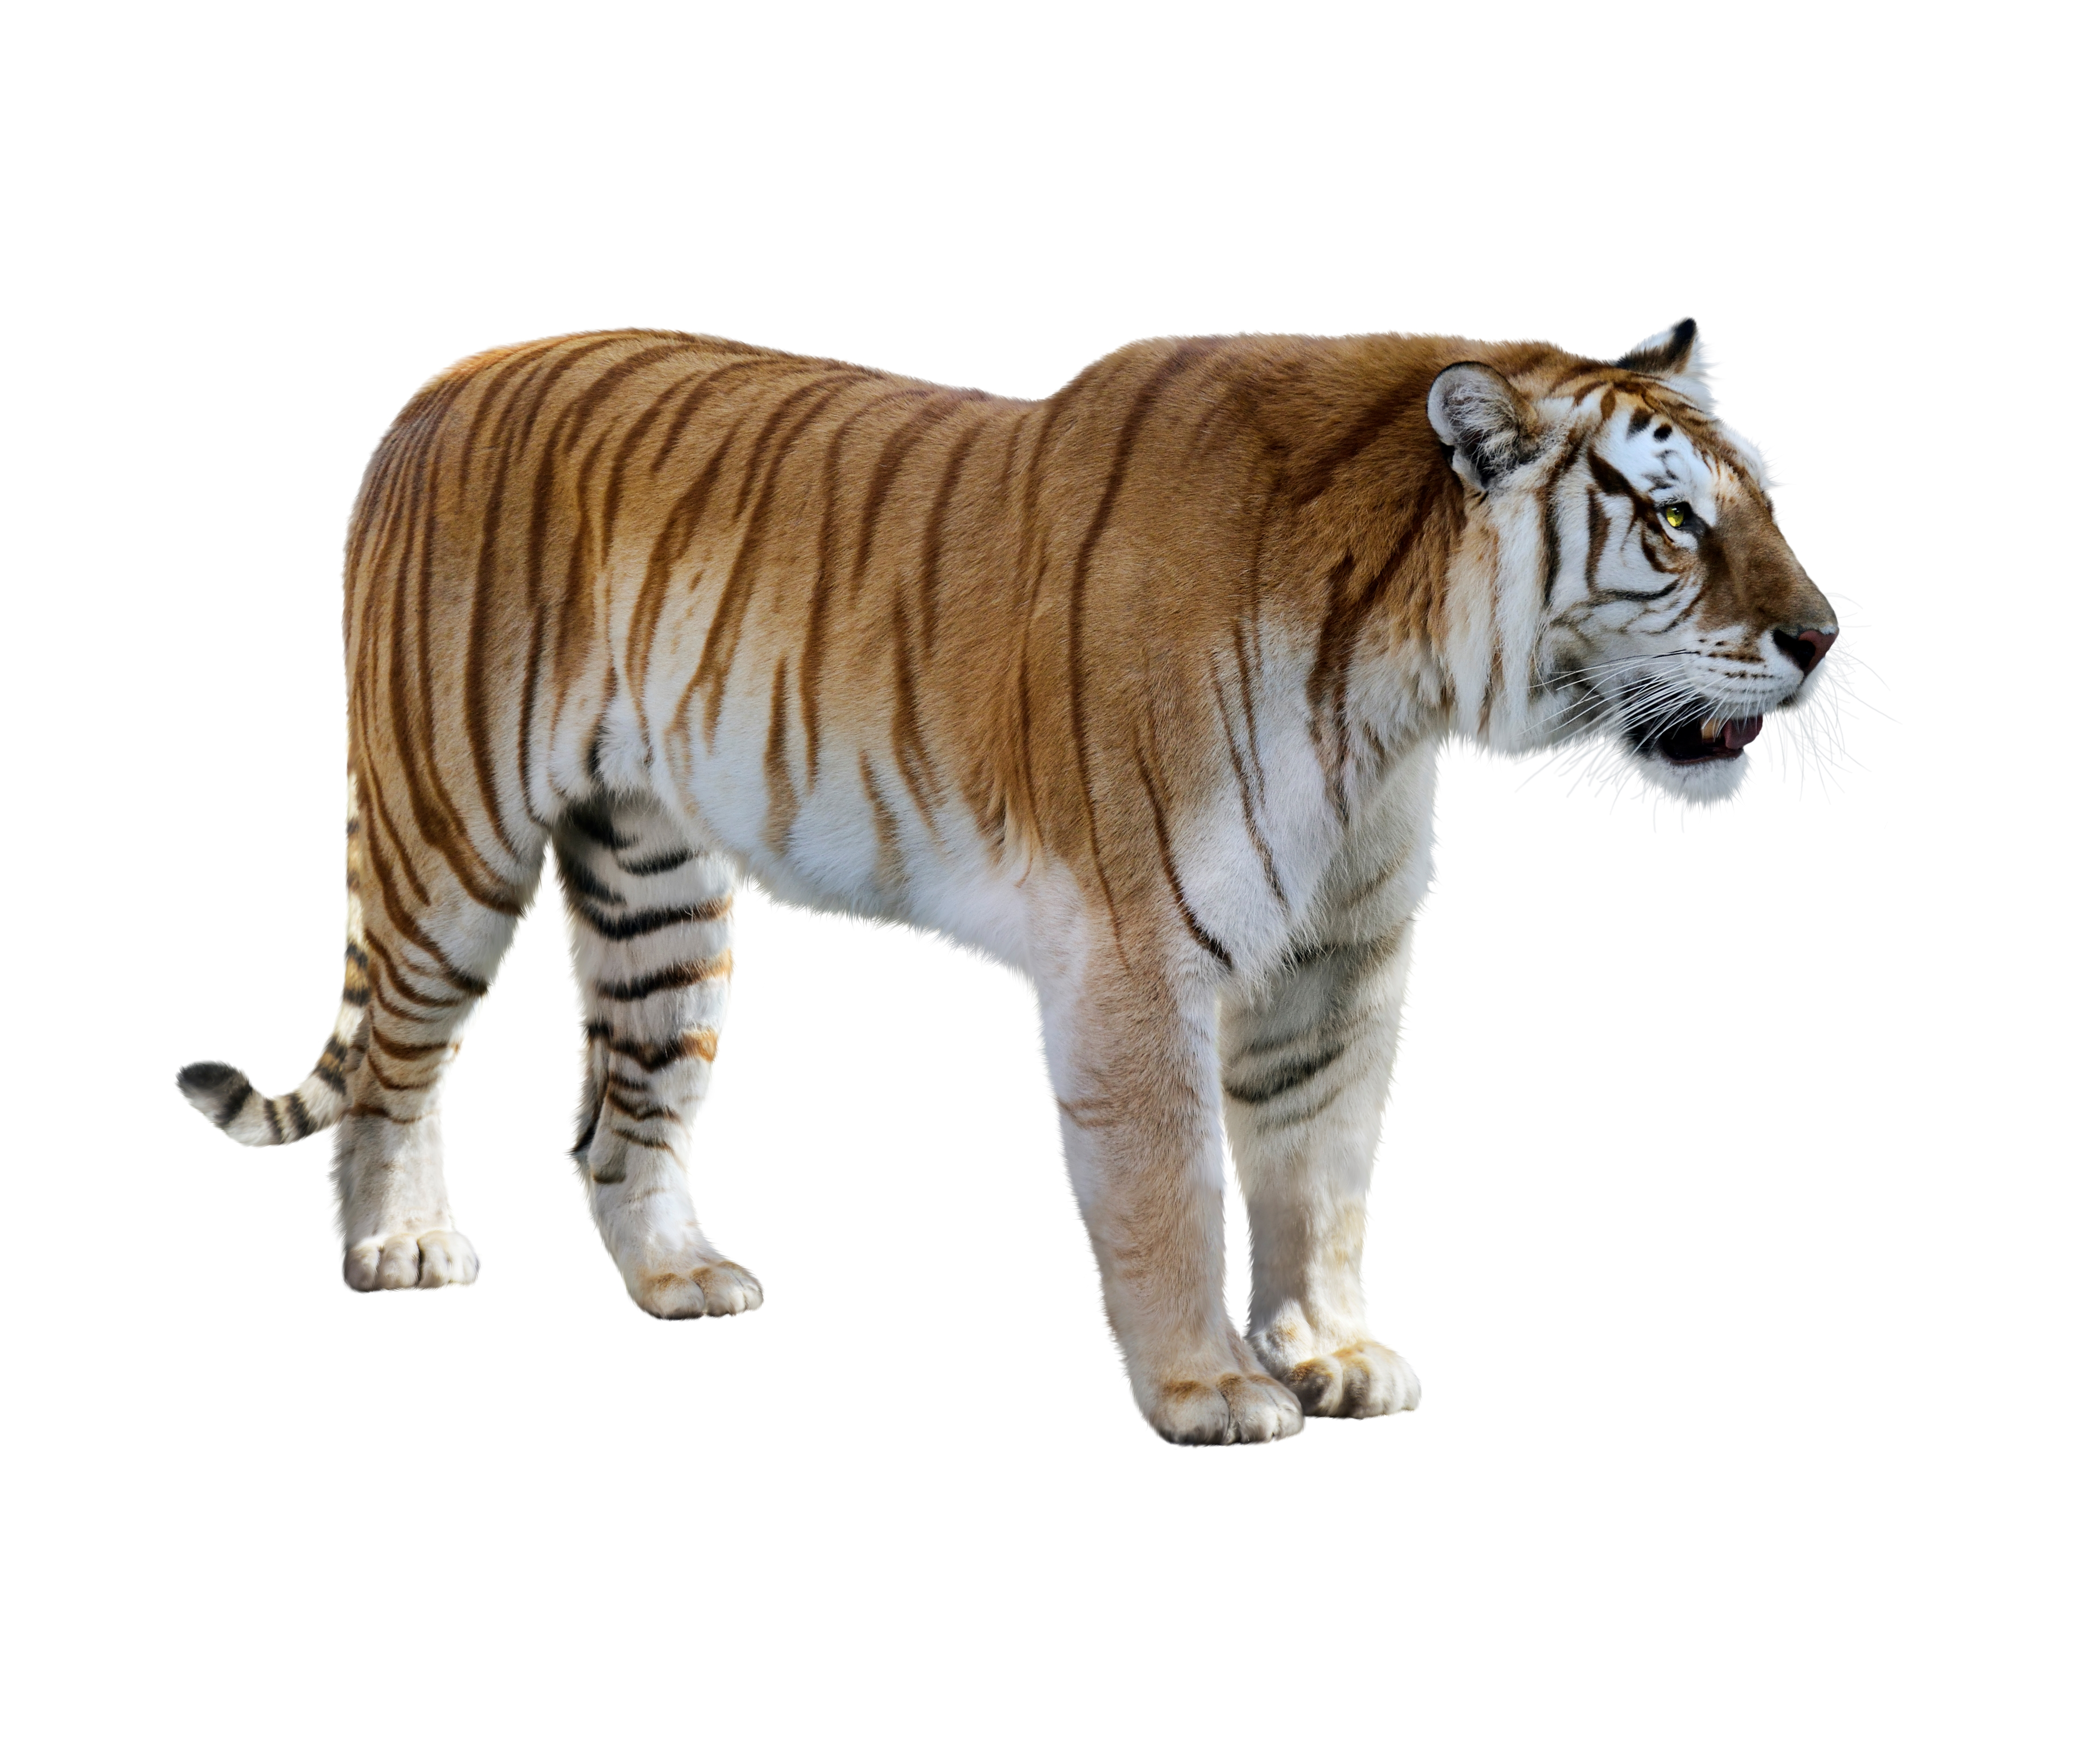tiger: (229, 233, 1888, 1470)
